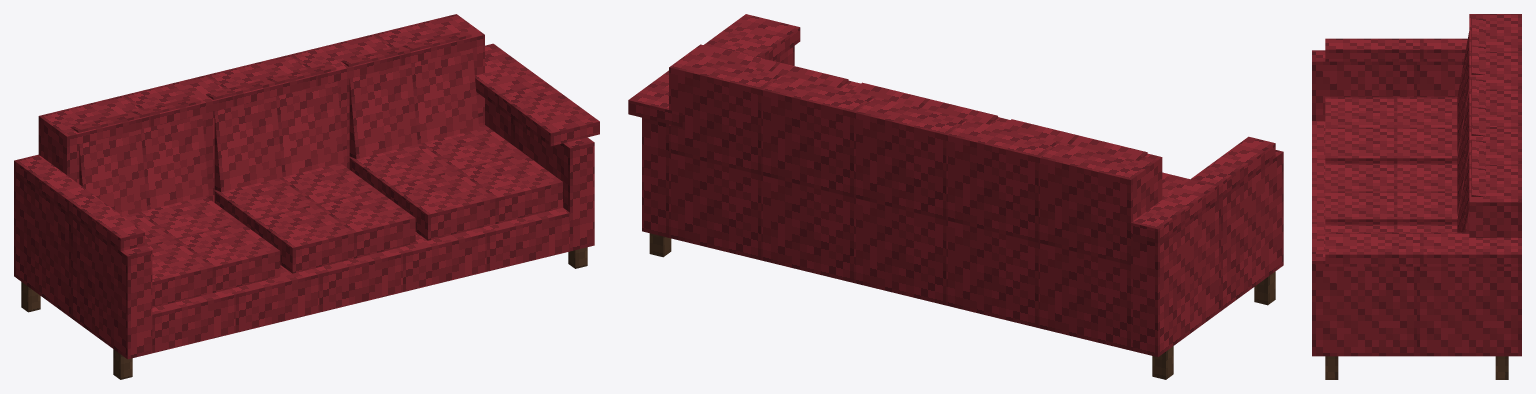
The model's file is loungeCouchWide_0.glb.
3 renders of one model, left to right at view 1: azimuth 30°, elevation 25°; view 2: azimuth 150°, elevation 25°; view 3: azimuth 270°, elevation 25°, orthographic. The views are drawn at different scales.
Visible parts, largest first — view 1: loungeCouchWide_0; view 2: loungeCouchWide_0; view 3: loungeCouchWide_0.
Boxes of the visible parts, x1,y1,x2,y2 form: loungeCouchWide_0: (14, 14, 599, 379); loungeCouchWide_0: (628, 14, 1283, 379); loungeCouchWide_0: (1312, 14, 1521, 379).
Bounding box in the file's own units: 2.44 × 0.886 × 1.
Materials: 1 (1 with a texture image).
